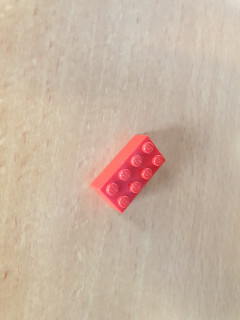2x4 red: (89, 133, 167, 214)
